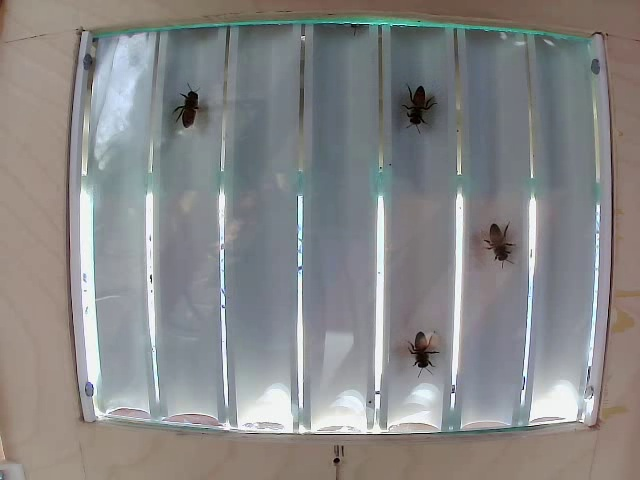bee: (165, 83, 217, 134), (479, 222, 528, 264), (406, 321, 443, 375), (411, 86, 442, 144)
